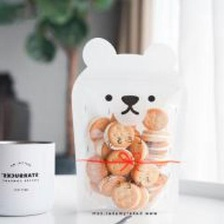snack: (64, 31, 194, 221)
